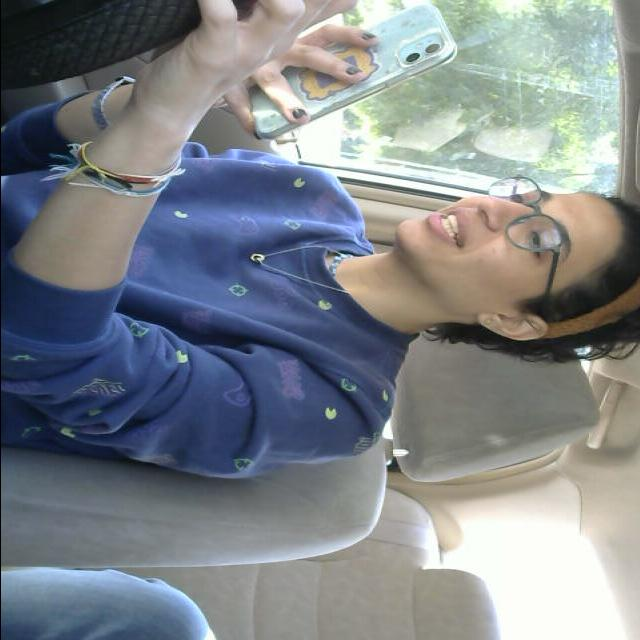mobile use: (237, 3, 458, 144)
